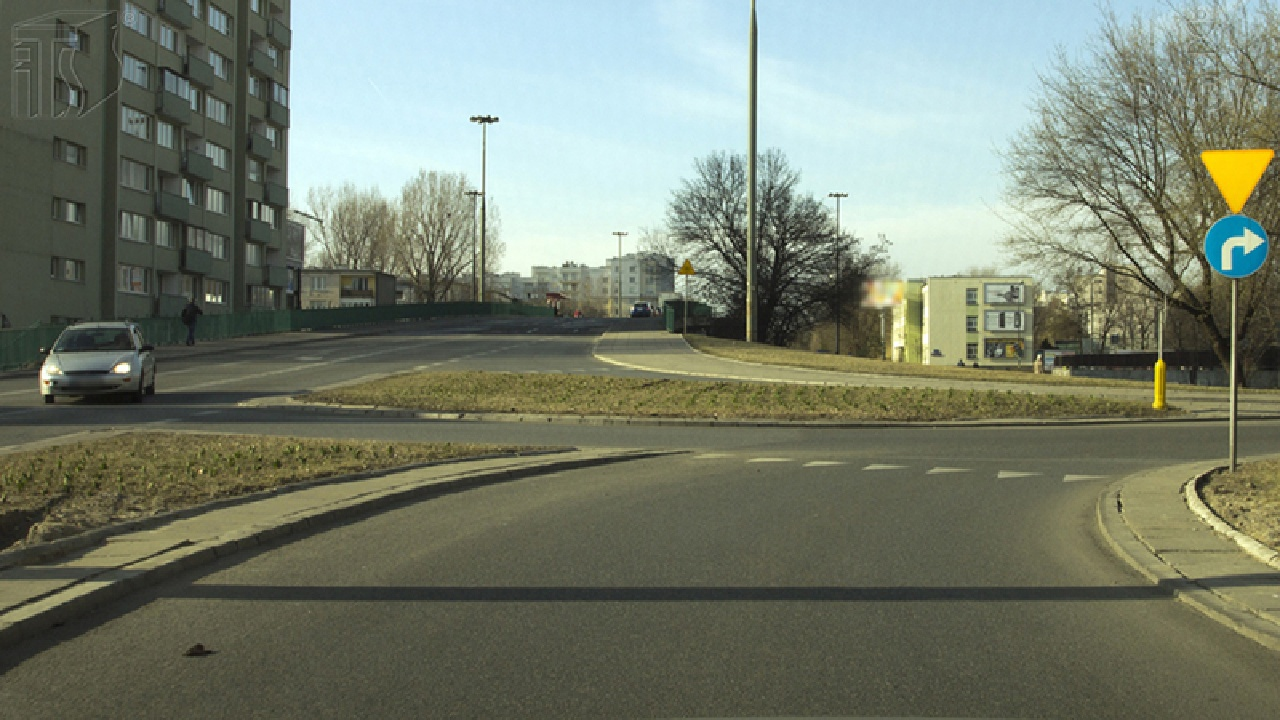A7: (1200, 149, 1274, 215)
C2: (1203, 214, 1268, 277)
